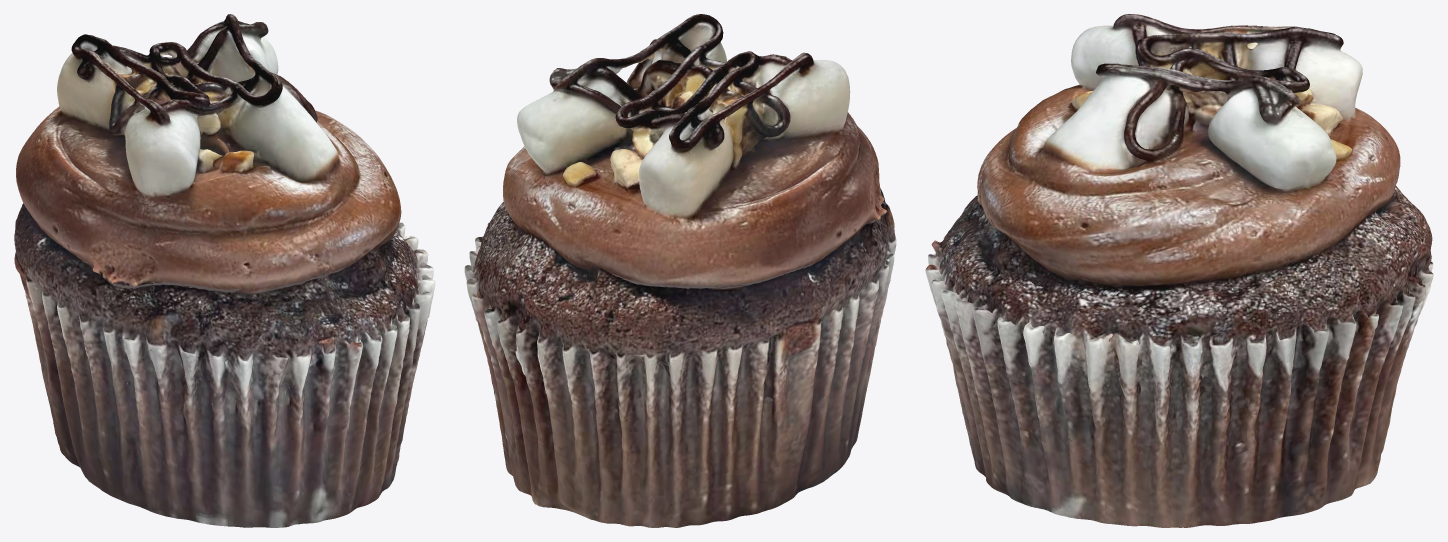
3 views of the same model, side by side, from view 1: azimuth 30°, elevation 25°; view 2: azimuth 150°, elevation 25°; view 3: azimuth 270°, elevation 25° (orthographic). The views are drawn at different scales.
Visible parts, largest first — view 1: Object_3, Object_5, Object_6; view 2: Object_3, Object_5, Object_6; view 3: Object_3, Object_5, Object_6.
Part boxes in pixels (x1=…): Object_3: x1=14, y1=27, x2=433, y2=527; Object_5: x1=16, y1=14, x2=435, y2=527; Object_6: x1=16, y1=21, x2=433, y2=523; Object_3: x1=471, y1=26, x2=896, y2=527; Object_5: x1=464, y1=14, x2=896, y2=522; Object_6: x1=465, y1=14, x2=894, y2=513; Object_3: x1=925, y1=15, x2=1433, y2=527; Object_5: x1=929, y1=14, x2=1433, y2=526; Object_6: x1=926, y1=32, x2=1429, y2=498.
Size of what is drawn, in the model's own units: 0.0947 by 0.1044 by 0.1187.
Materials: 3 (3 with a texture image).
